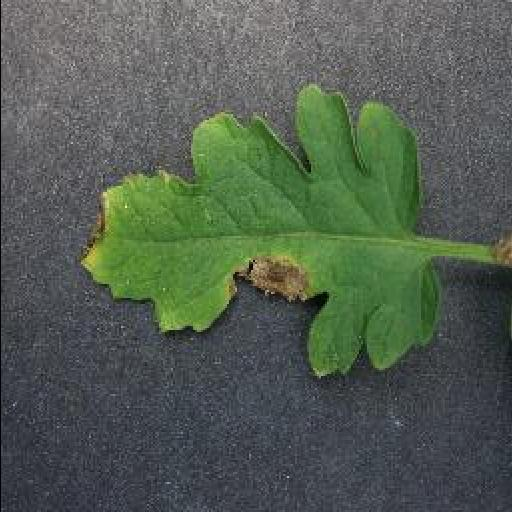disease_tomato: (74, 86, 438, 380)
